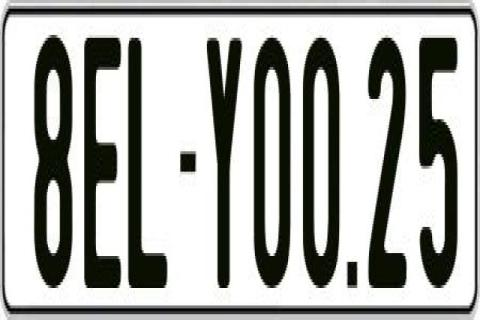0: (416, 32, 459, 300), (367, 35, 411, 291), (303, 32, 343, 294), (32, 32, 70, 291), (255, 38, 292, 300)
E: (81, 29, 118, 288)
L: (128, 35, 171, 299)
Y: (205, 35, 240, 299)
